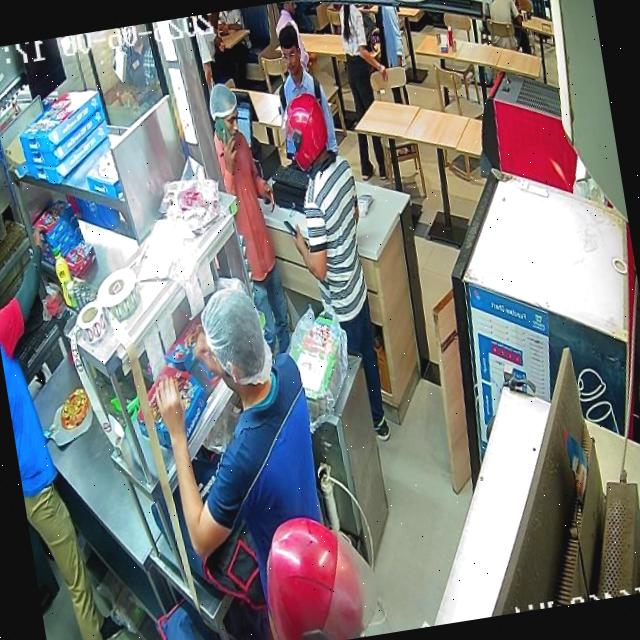helmet: (267, 517, 386, 640)
